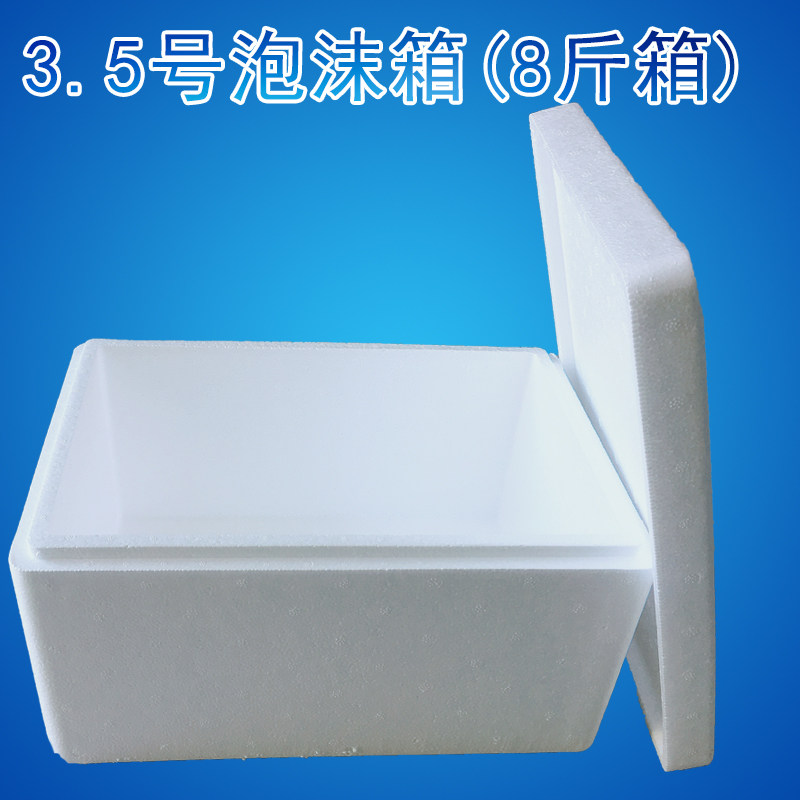Boxes: (9, 105, 713, 770)
